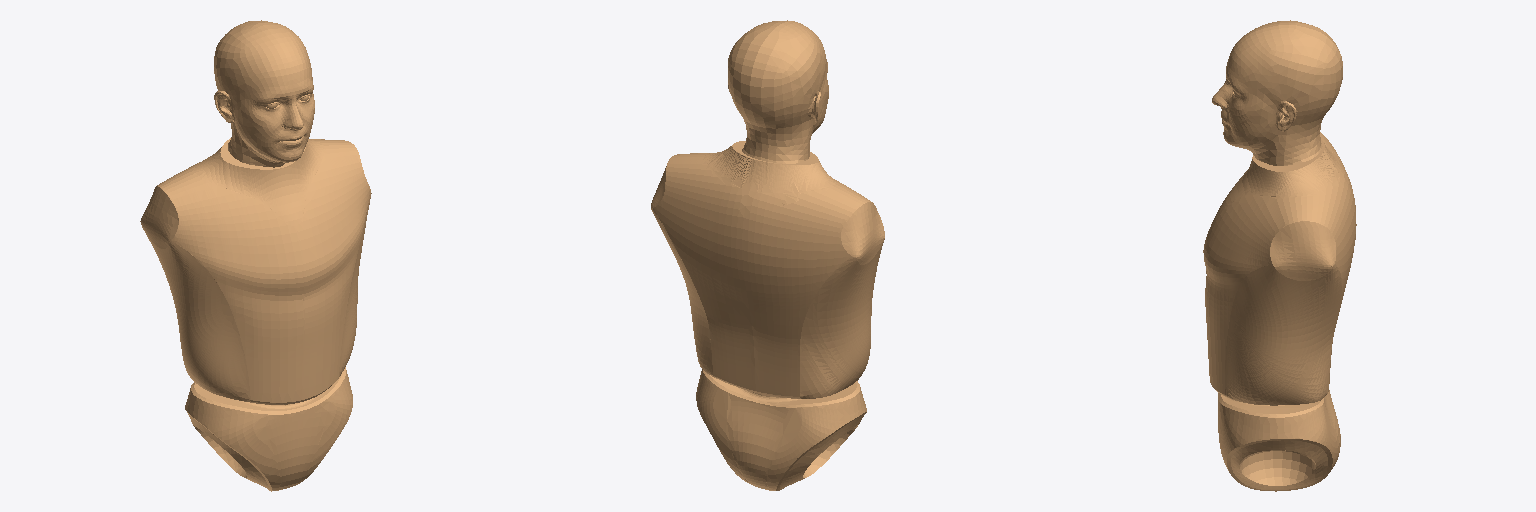
robot.urdf — torso_and_head:
<?xml version="1.0" ?>
<robot name="torso_and_head">
    <link name="base_link">
        <inertial>
            <mass value="1" />
            <origin xyz="0 0 0" rpy="0 0 0" />
            <inertia ixx="0.070968" ixy="-0.009135" ixz="-0.000056" iyy="0.048896" iyz="0.000007" izz="0.086415" />
        </inertial>
        <visual>
            <geometry>
                <mesh filename="meshes/torso_and_head.stl" scale="1.0 1.0 1.0"/>
            </geometry>
              <material name="skin">
                <color rgba="0.9 0.72 0.53 1.000"/>
              </material>
        </visual>
        <collision>
            <geometry>
                <mesh filename="meshes/torso_and_head.stl" scale="1.0 1.0 1.0"/>
            </geometry>
        </collision>
    </link>
</robot>

--- Facts derived from the render (not from the file) ---
3 views of the same robot in one strip: view 1: azimuth 30°, elevation 25°; view 2: azimuth 150°, elevation 25°; view 3: azimuth 270°, elevation 25° (orthographic).
Robot: torso_and_head — 1 links, 0 joints (none); root link base_link; default pose: all joints at 0.
Links seen in each view (by area): view 1: base_link; view 2: base_link; view 3: base_link.
Boxes of the visible links, x1,y1,x2,y2 form: base_link: [140, 20, 371, 491]; base_link: [651, 20, 884, 490]; base_link: [1203, 20, 1356, 491].
Bounding box of the posed robot: 0.4214 × 0.2648 × 0.8856 m (x, y, z).
Meshes: 1 distinct files referenced, 1 mesh visuals loaded (1 binary STL).